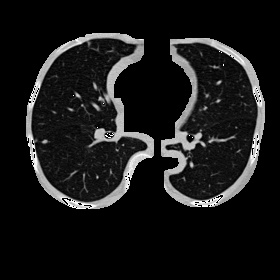PN: (42, 139, 46, 143)
